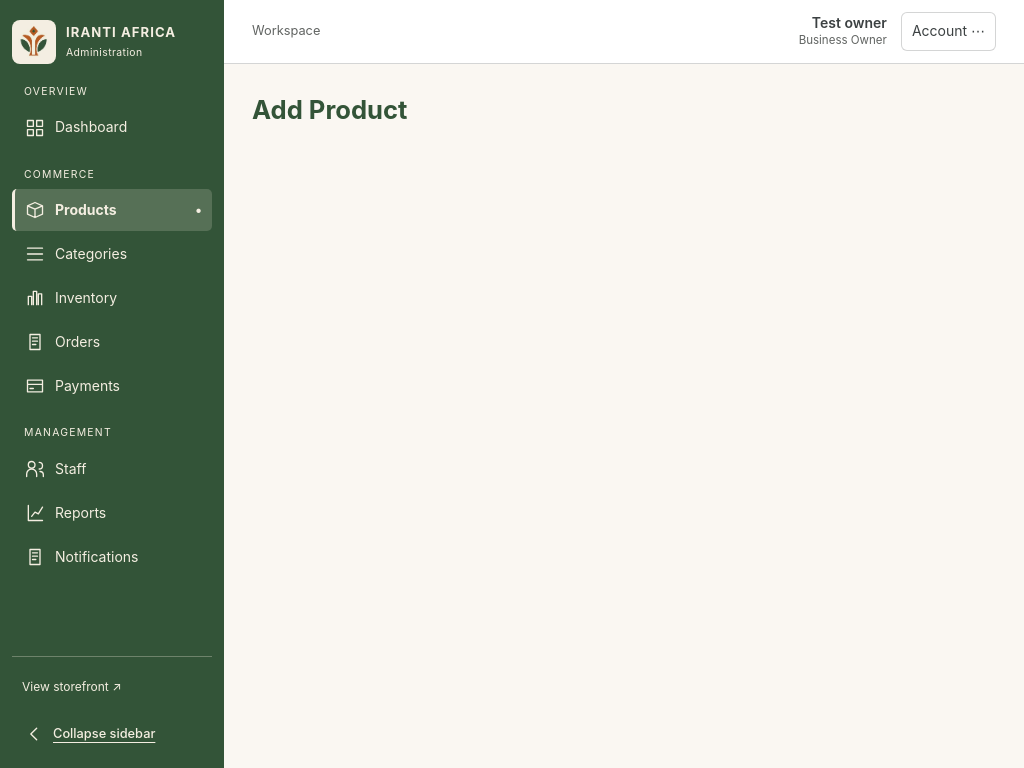
Test: marks the nested product route and persists collapsed navigation with accessible names
Expected: the link "Payments" is shown, [25,376,120,396]
Click the button "Collapse sidebar": (90, 734) [12,716,168,752]
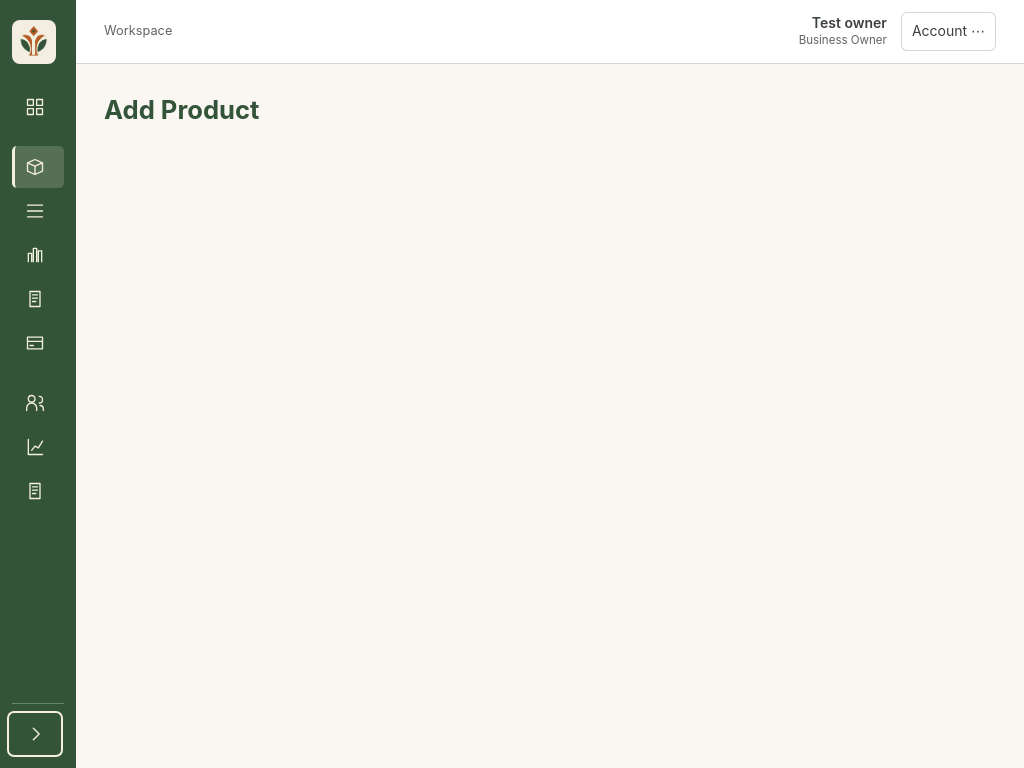
Now the button named "Expand sidebar" is collapsed, box [12,716,58,752]
